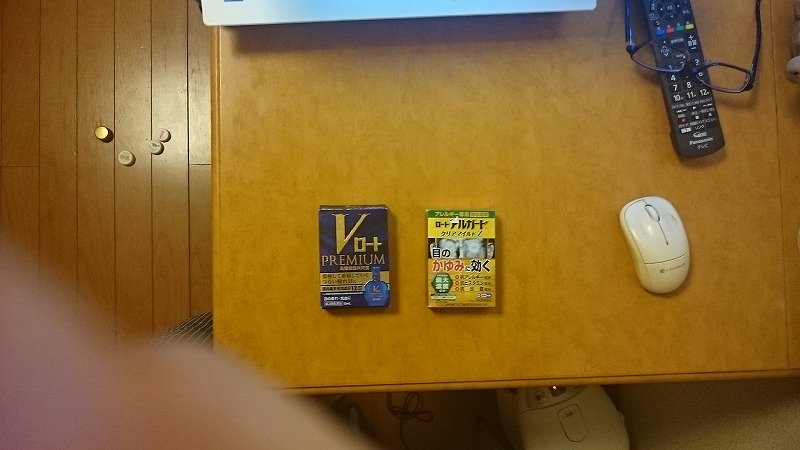C: (423, 206, 502, 314)
D: (314, 199, 395, 314)
